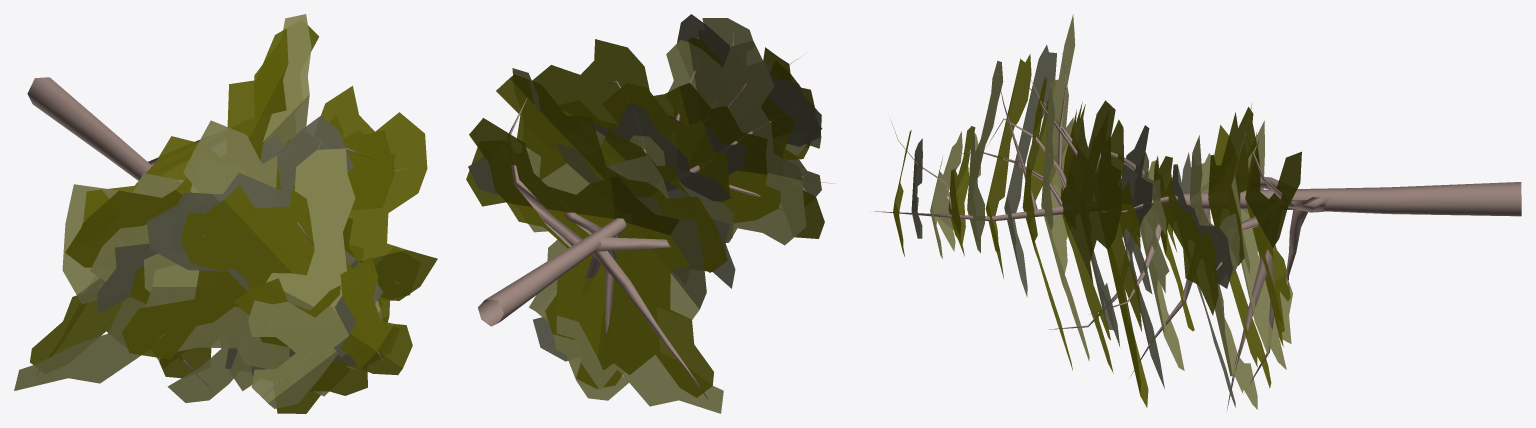
File: Tree2.obj
The picture shows the model from 3 angles, left to right: view 1: azimuth 30°, elevation 25°; view 2: azimuth 150°, elevation 25°; view 3: azimuth 270°, elevation 25°; orthographic projection. The views are drawn at different scales.
Parts seen in each view (by area): view 1: group_1.002_ID14.002; view 2: group_1.002_ID14.002; view 3: group_1.002_ID14.002.
Part boxes in pixels (x1,y1,x2,y2): group_1.002_ID14.002: (14, 14, 437, 413); group_1.002_ID14.002: (466, 14, 834, 413); group_1.002_ID14.002: (870, 14, 1521, 411).
Bounding box in the file's own units: 6.76 × 6.95 × 11.67.
